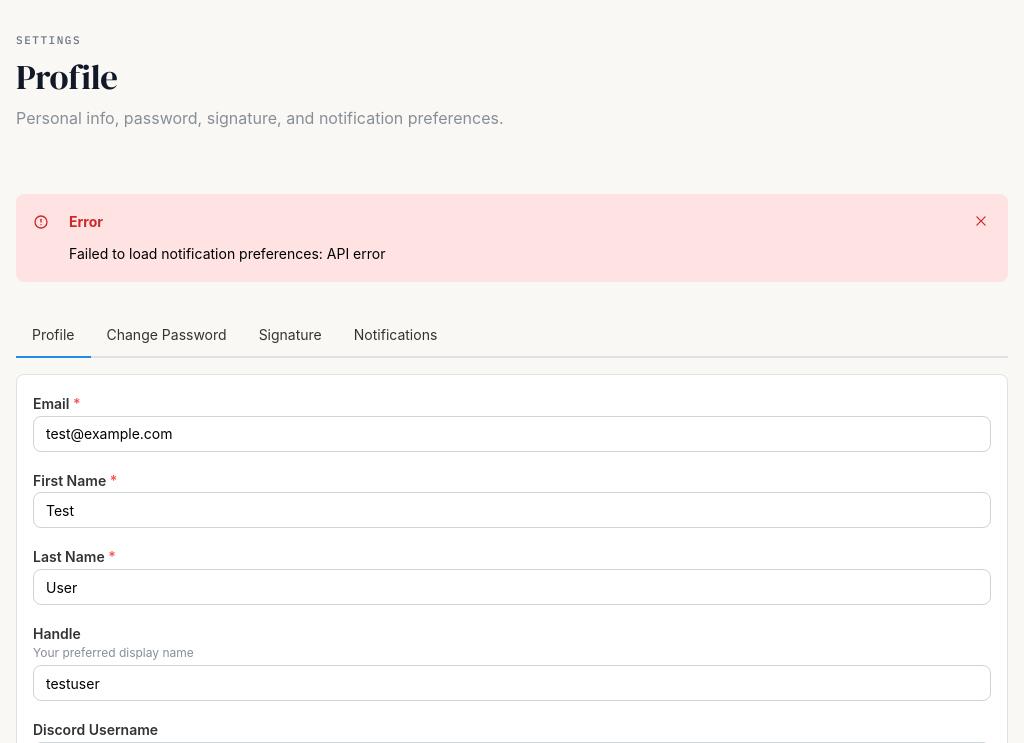
it: UserProfilePage › prevents preferences from showing loading state indefinitely
Expected: the heading "Profile" is shown, top-left (16, 53), bottom-right (118, 101)
Expected: the text "Notifications" is shown, top-left (354, 328), bottom-right (437, 342)
Click the tab "Notifications" at (396, 336), box top-left (338, 314), bottom-right (453, 358)
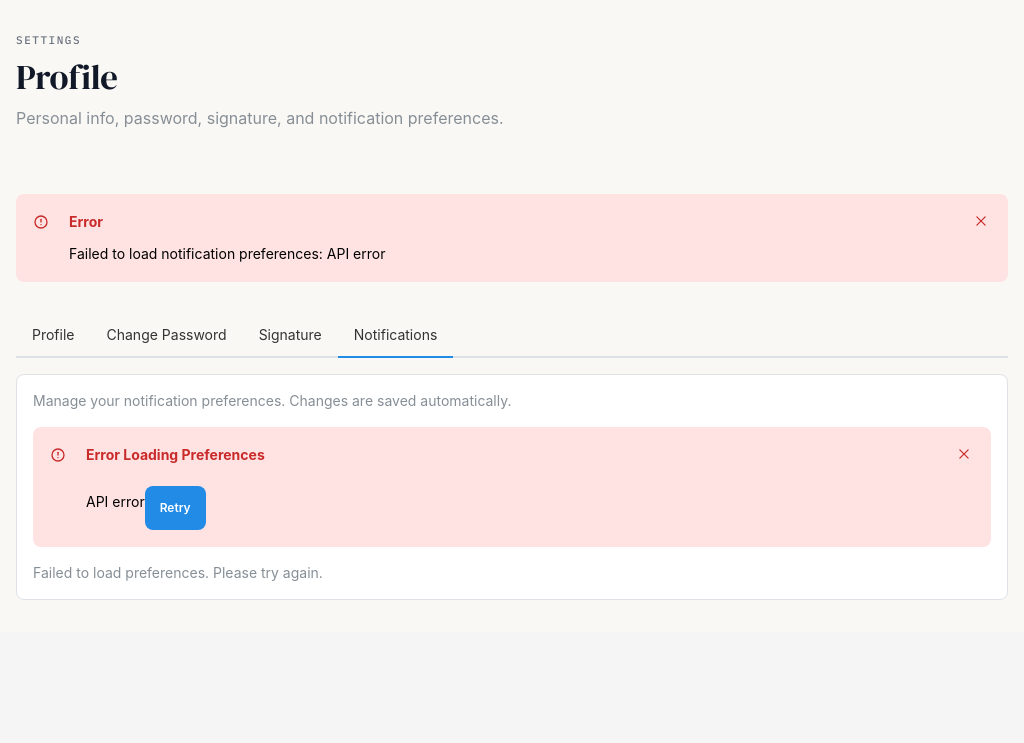
Now the text "Error Loading Preferences" is shown, box top-left (86, 444), bottom-right (265, 466)
